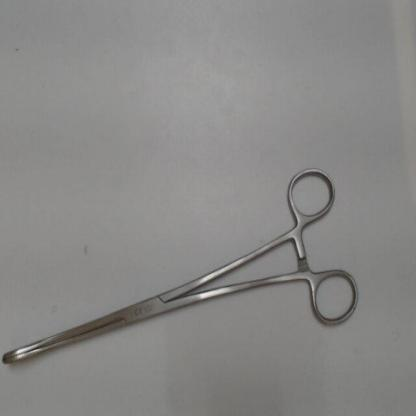Sponge Forceps: (0, 161, 364, 375)
